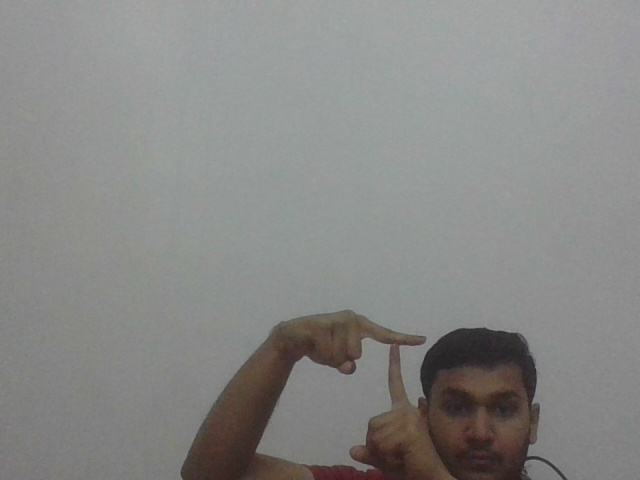T: (368, 317, 421, 402)
